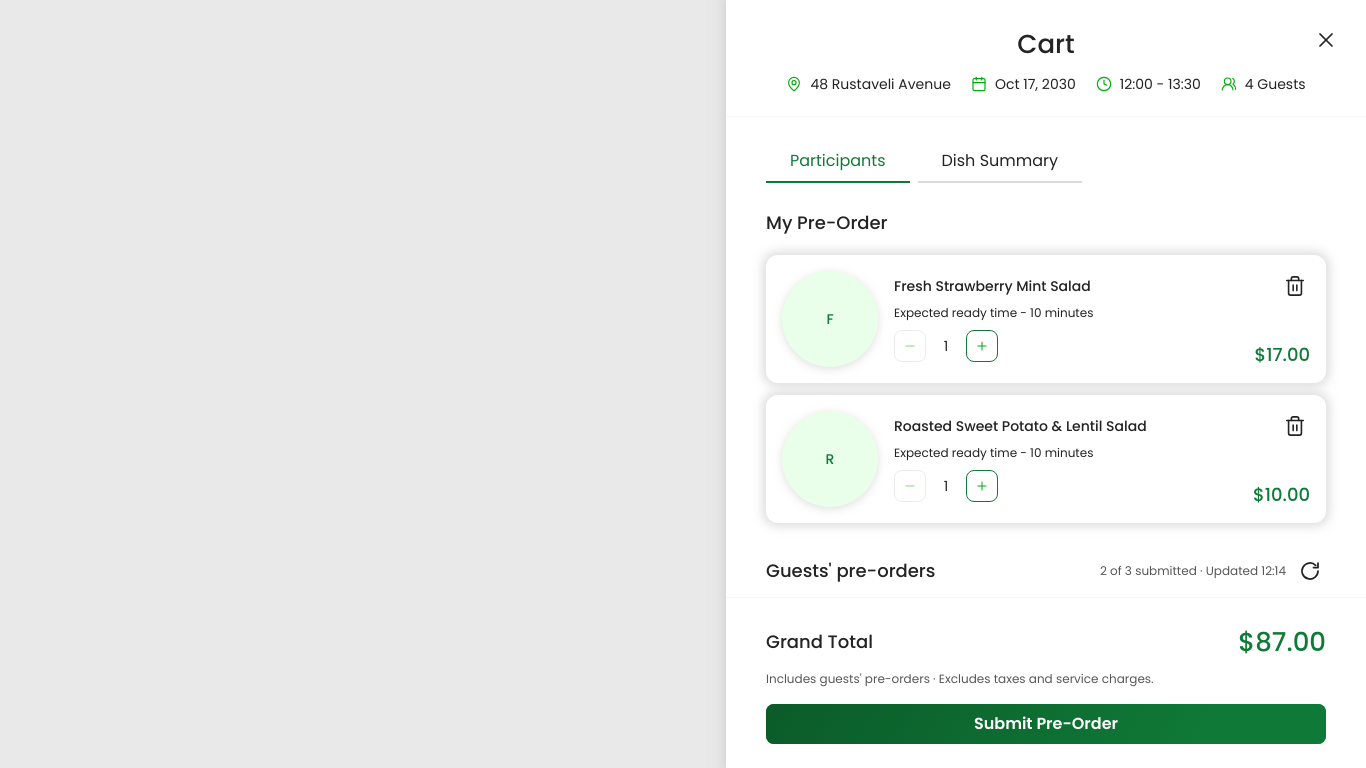
Test: Рівень 2 · кошик Owner › Submit Pre-Order › успіх: toast і порожній кошик — «Your cart is empty»
What coordinates should you click on to do the following:
click the button "Submit Pre-Order"
I would click on:
 (1046, 724)
Its box is left=766, top=704, right=1326, bottom=744.
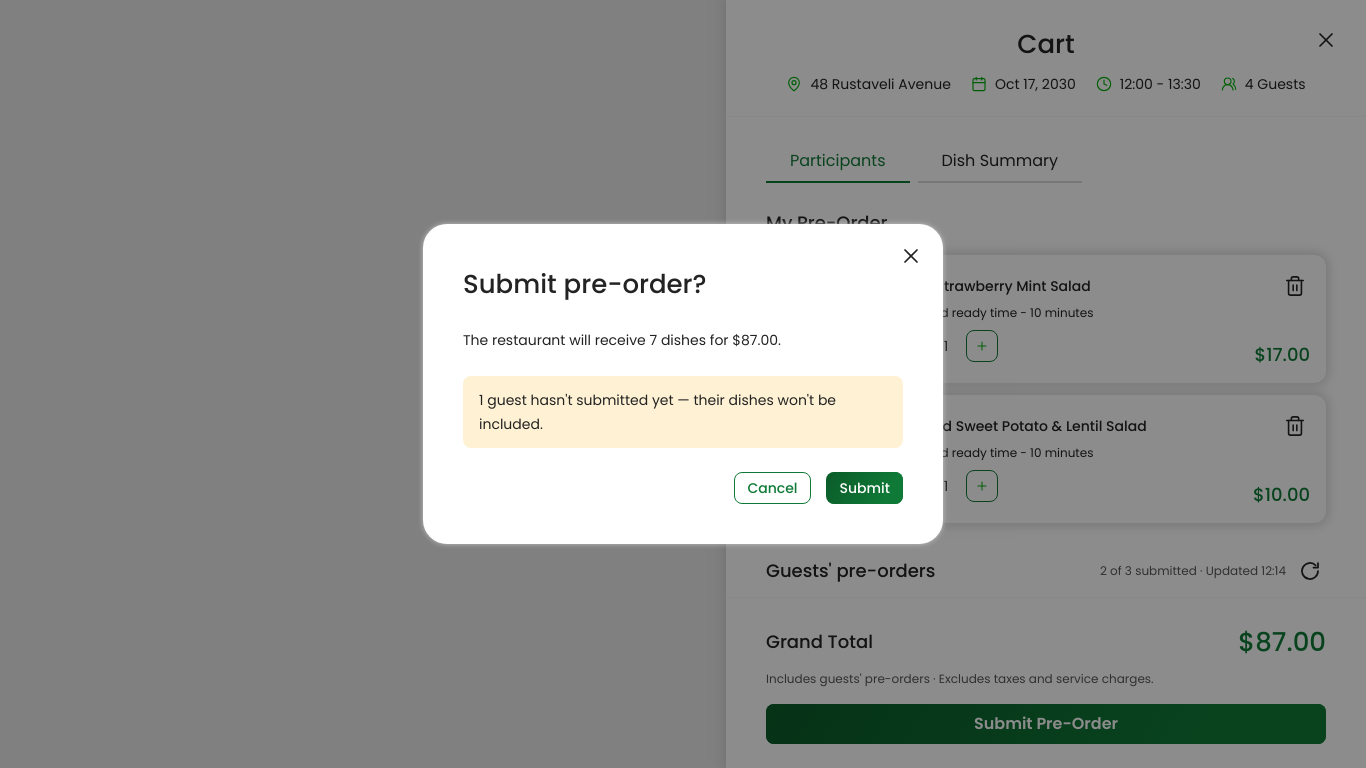
What coordinates should you click on to do the following:
click the button "Submit"
I would click on:
 (865, 488)
Its box is left=826, top=472, right=903, bottom=504.
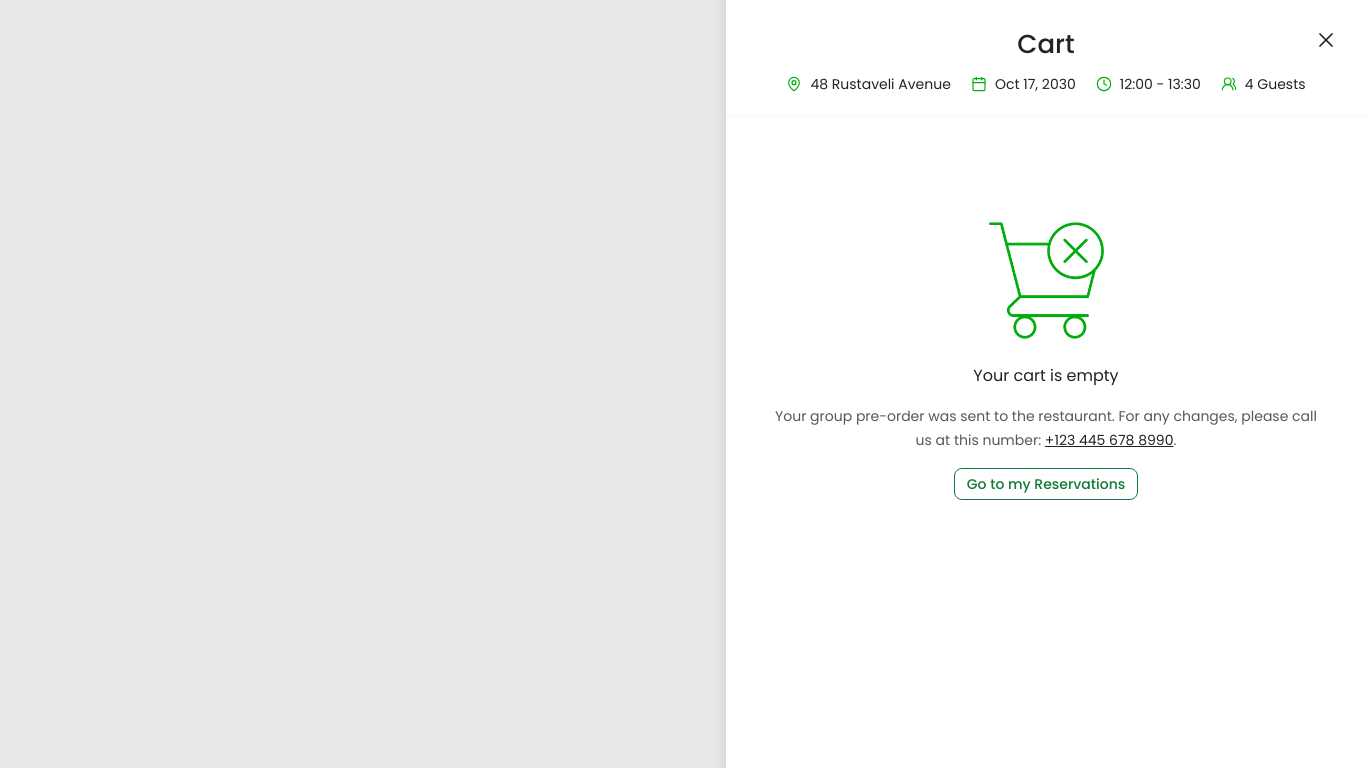
Expected: the text "Your cart is empty" is shown, left=973, top=364, right=1119, bottom=388
Expected: the text "Your group pre-order was sent to the restaurant." is shown, left=775, top=406, right=1317, bottom=450
Expected: the text "Fresh Strawberry Mint Salad" is gone
